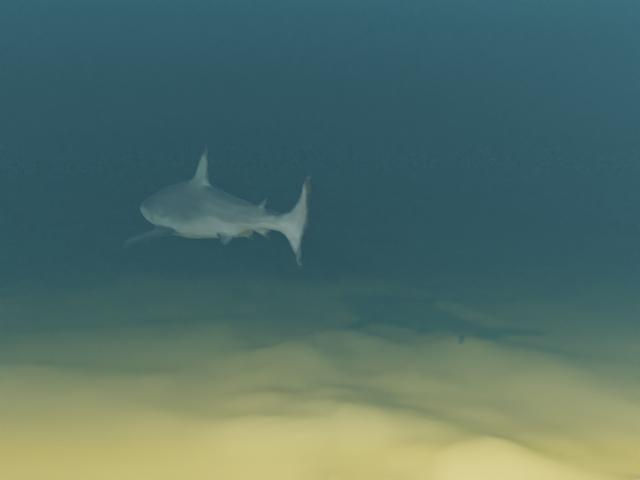Carribean Shark.001: (115, 148, 311, 265)
